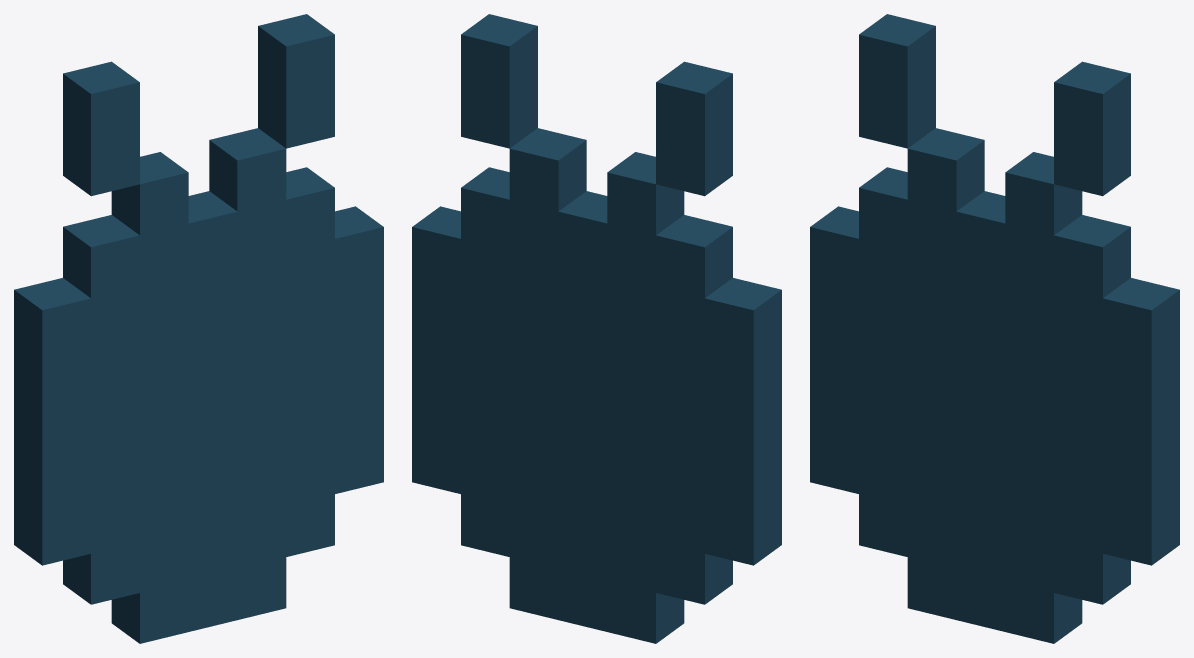
Rendered from BS_Coin_Small_1.fbx.
3 views of the same model, side by side, from view 1: azimuth 30°, elevation 25°; view 2: azimuth 150°, elevation 25°; view 3: azimuth 330°, elevation 25° (orthographic).
Visible parts, largest first — view 1: BS_Coin_Small_1; view 2: BS_Coin_Small_1; view 3: BS_Coin_Small_1.
Boxes of the visible parts, x1,y1,x2,y2 form: BS_Coin_Small_1: (14, 14, 383, 643); BS_Coin_Small_1: (412, 14, 781, 643); BS_Coin_Small_1: (810, 14, 1179, 643).
Bounding box in the file's own units: 17.5 × 2.5 × 27.5.
